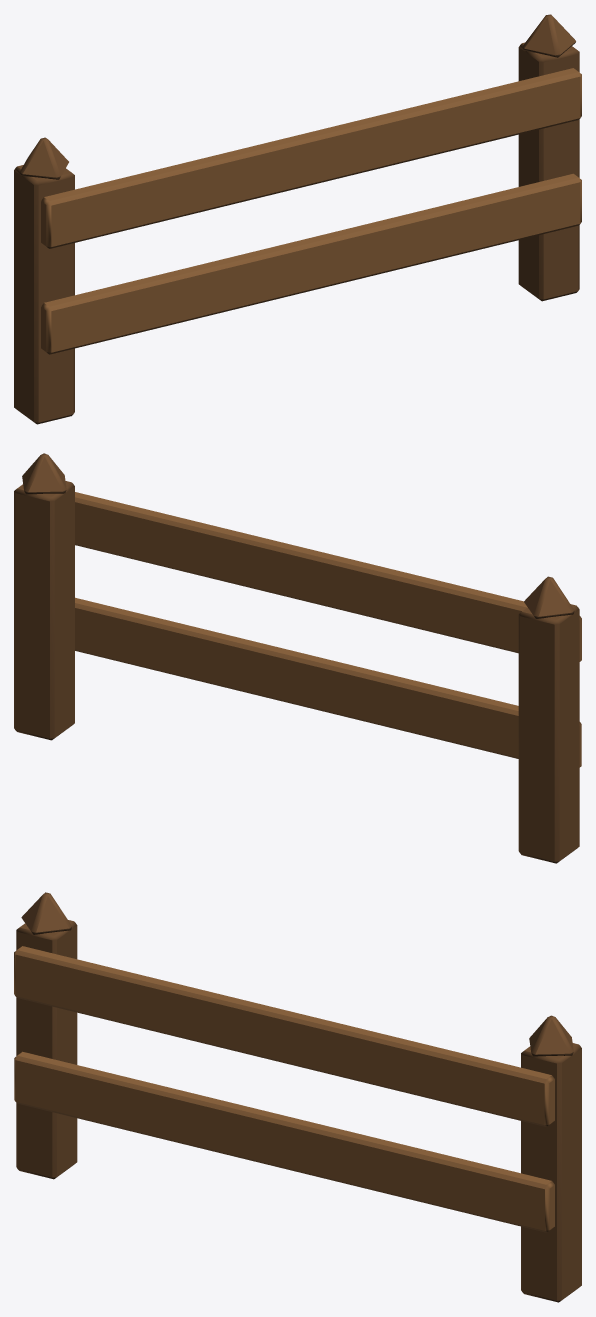
The model's file is Fence.glb.
3 views of the same model, one above another, from view 1: azimuth 30°, elevation 25°; view 2: azimuth 150°, elevation 25°; view 3: azimuth 330°, elevation 25° (orthographic).
Parts seen in each view (by area): view 1: Fence; view 2: Fence; view 3: Fence.
Part boxes in pixels (left/top/right/bottom): Fence: left=14, top=14, right=581, bottom=424; Fence: left=14, top=453, right=581, bottom=863; Fence: left=14, top=892, right=581, bottom=1302.
Bounding box in the file's own units: 10.95 × 5.18 × 1.13.
